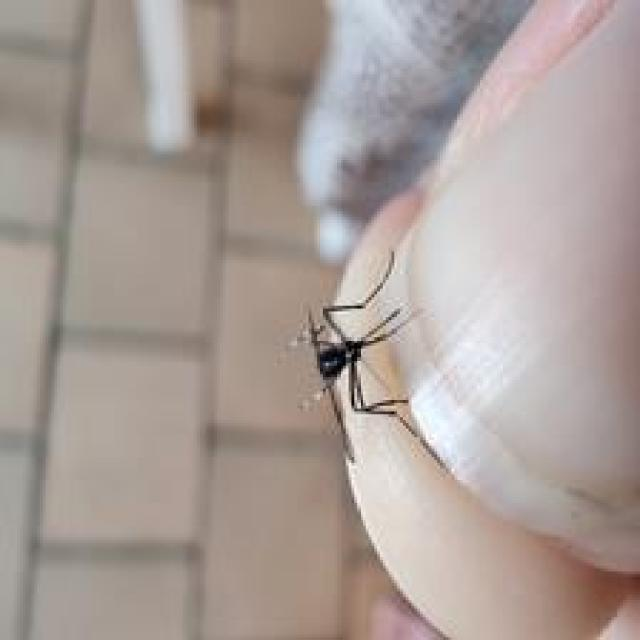Aedes albopictus: (287, 249, 450, 474)
